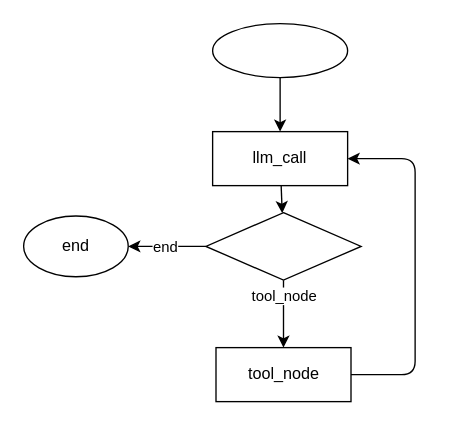
Some shapes in this 450 by 425 pixel diagram are drawn without their labels. The centre of each missing label's shape, as x and y in pixels:
should_continue: pixel 283 245
start: pixel 279 50
